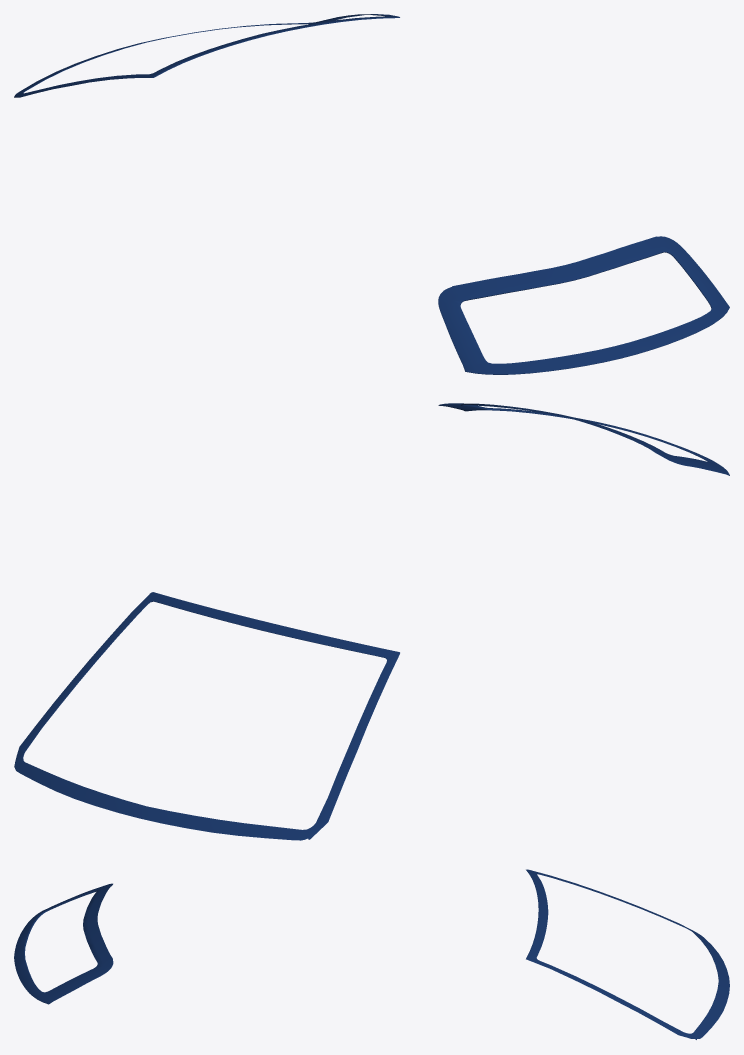
Rendered from cavity.glb.
The picture shows the model from 3 angles, top to bottom: view 1: azimuth 30°, elevation 25°; view 2: azimuth 150°, elevation 25°; view 3: azimuth 270°, elevation 25°; orthographic projection. The views are drawn at different scales.
Visible parts, largest first — view 1: cavity; view 2: cavity; view 3: cavity.
Boxes of the visible parts, x1,y1,x2,y2 form: cavity: (14, 14, 729, 374); cavity: (14, 403, 729, 840); cavity: (14, 869, 729, 1039).
Size of the model in its own units: 1.33 by 0.4281 by 3.59.
